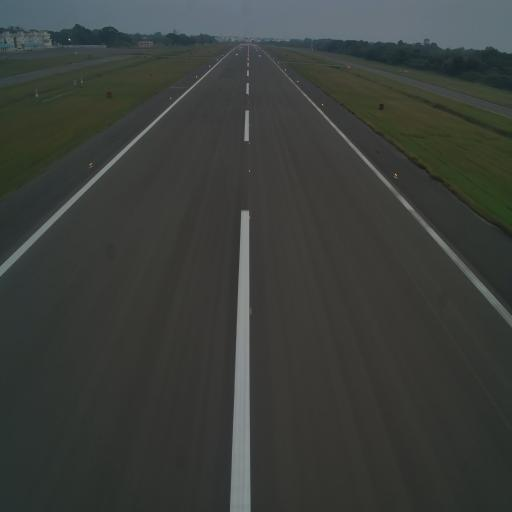on: (393, 169, 400, 181), (248, 305, 254, 318), (246, 210, 252, 221), (88, 160, 94, 170), (247, 168, 252, 177), (246, 141, 253, 147), (320, 101, 325, 108), (168, 94, 173, 101), (246, 107, 251, 114), (247, 121, 250, 128)
